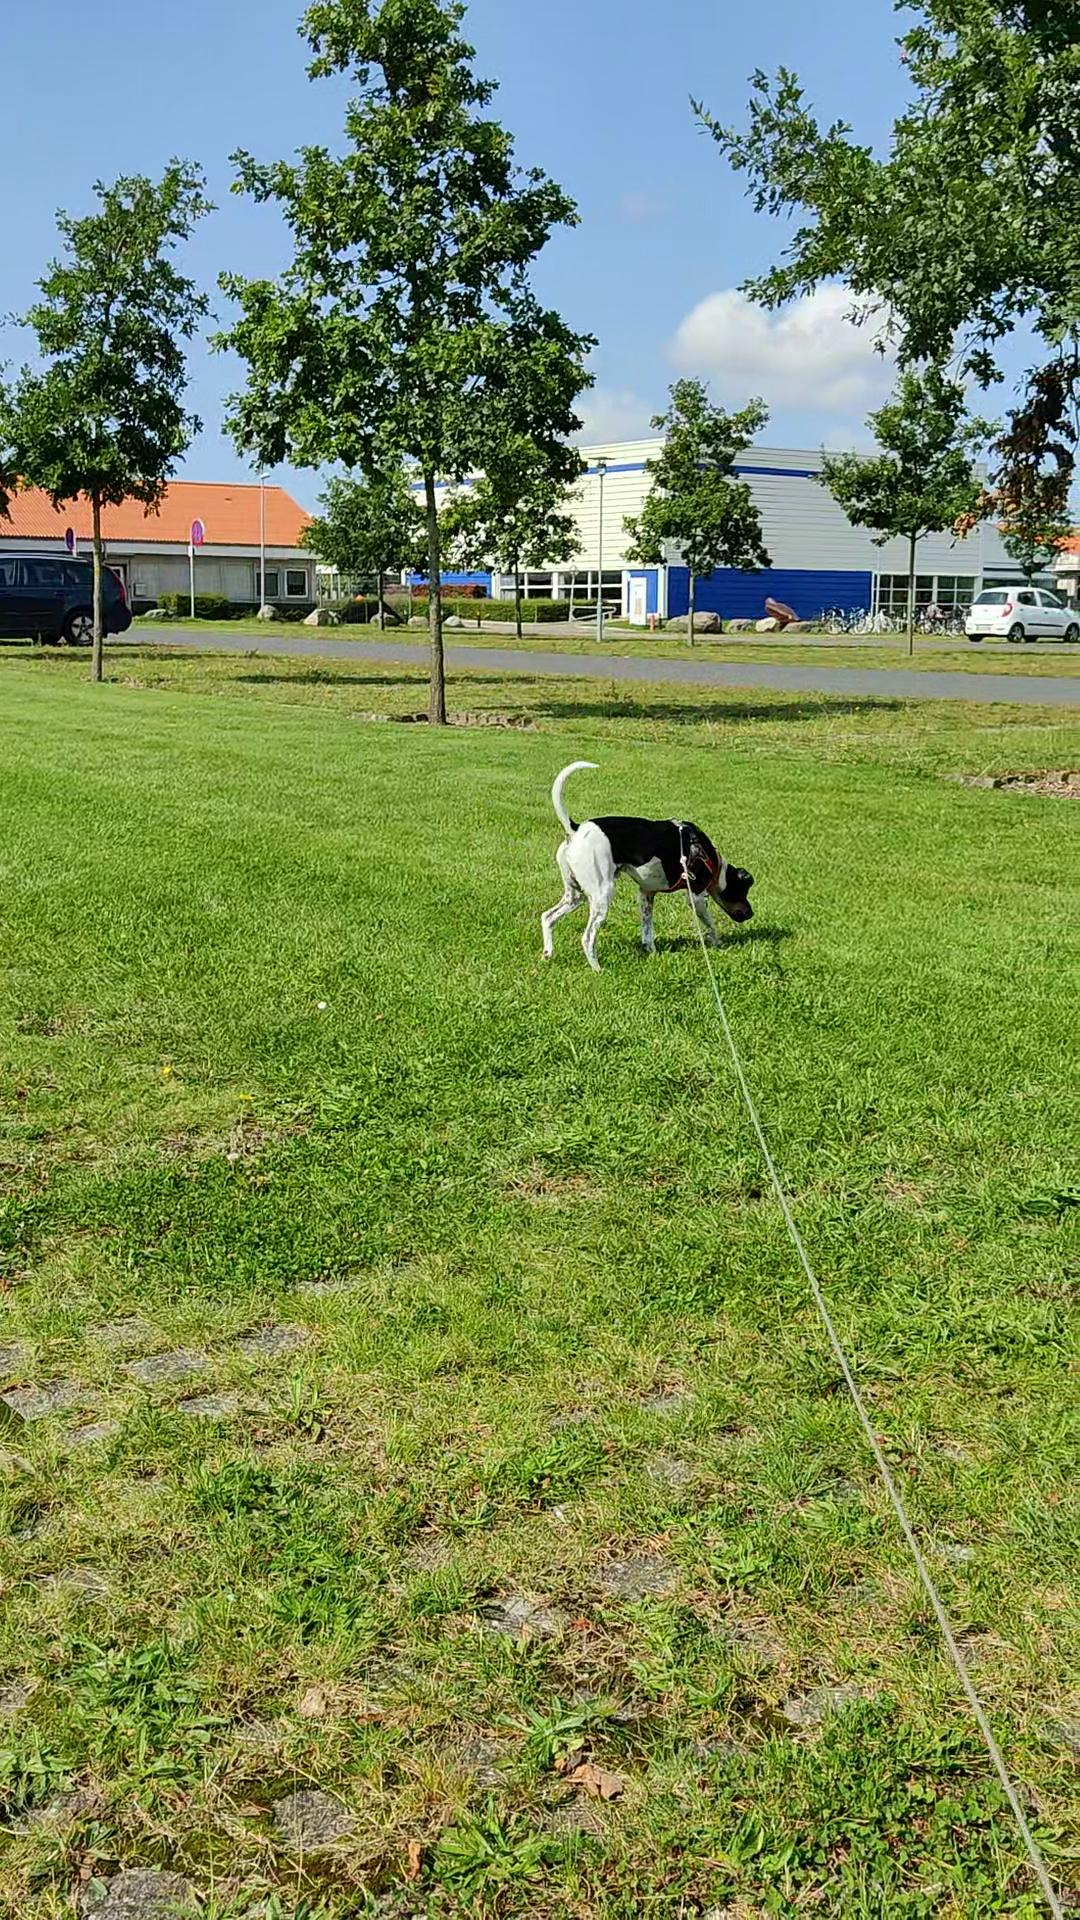Dog: (537, 753, 760, 972)
